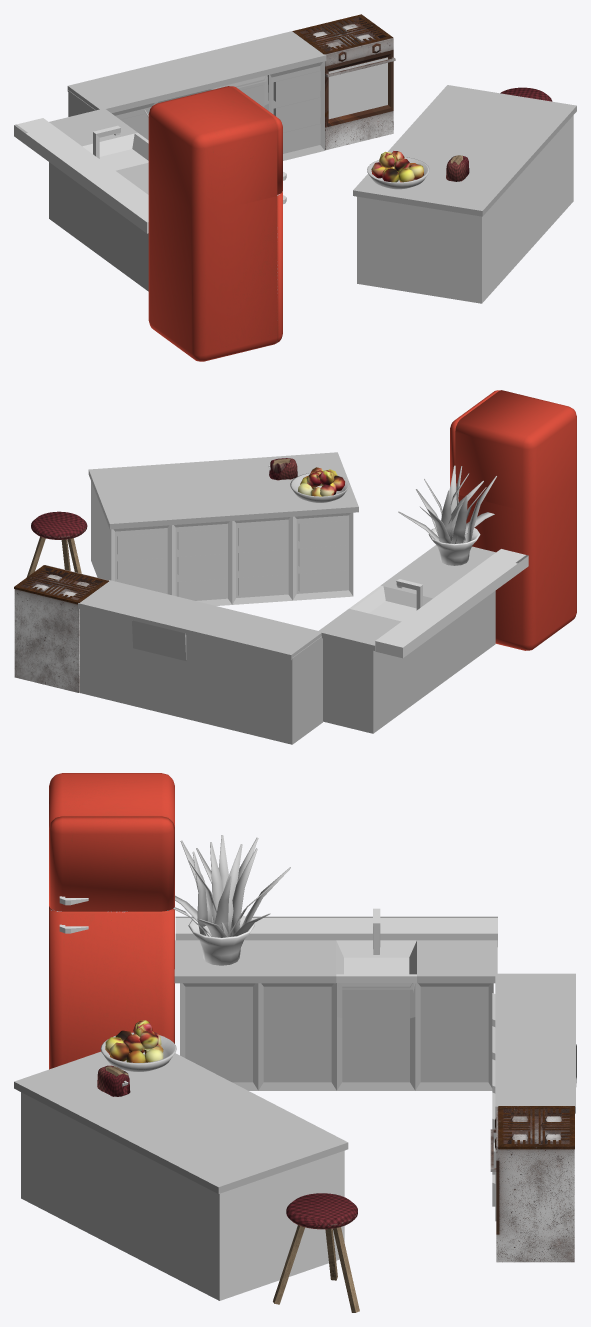
The model's file is jam boi export stuff.fbx.
3 views of the same model, one above another, from view 1: azimuth 30°, elevation 25°; view 2: azimuth 150°, elevation 25°; view 3: azimuth 270°, elevation 25° (orthographic). The views are drawn at different scales.
Parts seen in each view (by area): view 1: Untitled, Cube.020, Cube.016, skåp.001, skåp.002, Cube.025, spis, spis.001, Cube.014, Cube.027, Circle, Untitled.004; view 2: Cube.020, Untitled, skåp.001, skåp.002, spis, Cube.016, Cube.014, Cube.025, Cylinder.005, Untitled.001, Cube.027, Cylinder.004 (+2 smaller); view 3: Cube.020, Untitled, skåp.002, Cube.014, spis, Cube.016, Cube.025, Cylinder.005, Untitled.001, Cube.027, Cylinder.004, skåp.001 (+2 smaller).
Boxes of the visible parts, box(x1,y1,x2,y2) form: Untitled: box(148, 86, 282, 361); Cube.020: box(353, 85, 576, 303); Cube.016: box(67, 31, 326, 113); skåp.001: box(68, 61, 324, 160); skåp.002: box(49, 162, 148, 291); Cube.025: box(14, 118, 148, 233); spis: box(292, 14, 393, 150); spis.001: box(325, 50, 395, 127); Cube.014: box(49, 108, 148, 194); Cube.027: box(371, 151, 423, 182); Circle: box(367, 157, 429, 189); Untitled.004: box(446, 155, 469, 181); Cube.020: box(88, 452, 358, 605); Untitled: box(450, 390, 576, 650); skåp.001: box(80, 609, 322, 744); skåp.002: box(323, 591, 495, 733); spis: box(14, 565, 108, 692); Cube.016: box(78, 580, 322, 660); Cube.014: box(319, 545, 495, 650); Cube.025: box(375, 549, 528, 658); Cylinder.005: box(398, 465, 496, 543); Untitled.001: box(26, 511, 87, 577); Cube.027: box(298, 467, 344, 496); Cylinder.004: box(428, 528, 480, 565); Cube.020: box(14, 1051, 348, 1300); Untitled: box(49, 773, 174, 1069); skåp.002: box(180, 983, 493, 1090); Cube.014: box(174, 908, 497, 992); spis: box(495, 1106, 574, 1262); Cube.016: box(495, 973, 575, 1113); Cube.025: box(175, 916, 497, 946); Cylinder.005: box(173, 835, 290, 937); Untitled.001: box(273, 1193, 359, 1312); Cube.027: box(105, 1020, 163, 1062); Cylinder.004: box(188, 915, 254, 965); skåp.001: box(492, 993, 576, 1221).
Bounding box in the file's own units: 8662 × 4034 × 7493.
